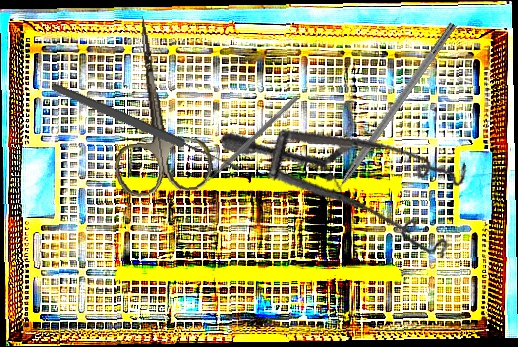Hook Surgical: (320, 20, 457, 210)
Iris Scissors: (95, 9, 216, 200)
Spatula Surgical: (199, 91, 299, 188)
Speculum: (220, 91, 481, 293)
Surgical Spoon: (50, 81, 242, 175)
